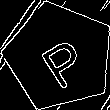P_NW: (29, 25, 90, 87)
